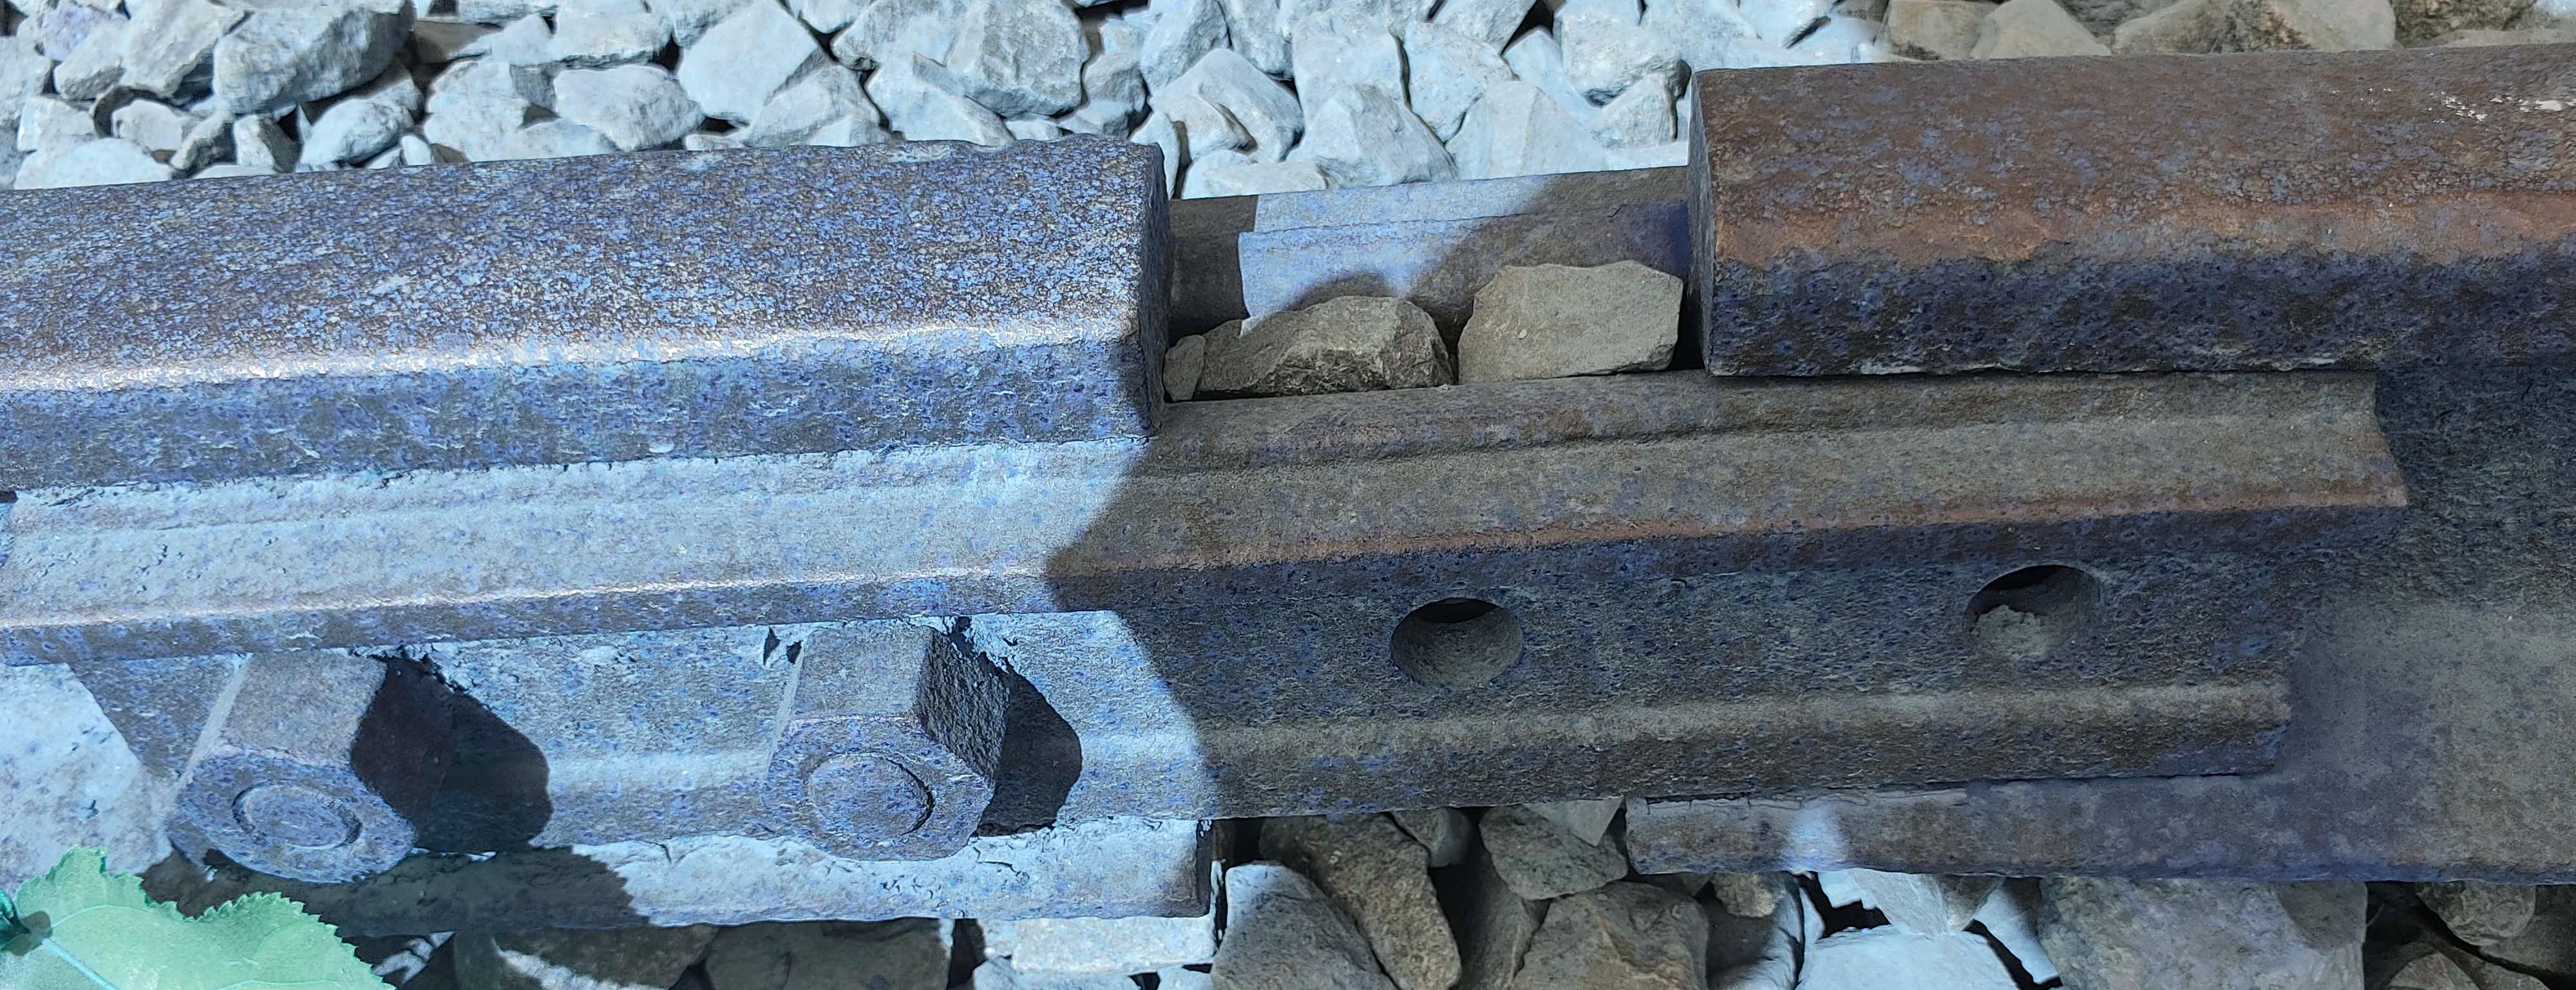error2: (1069, 33, 1750, 484)
